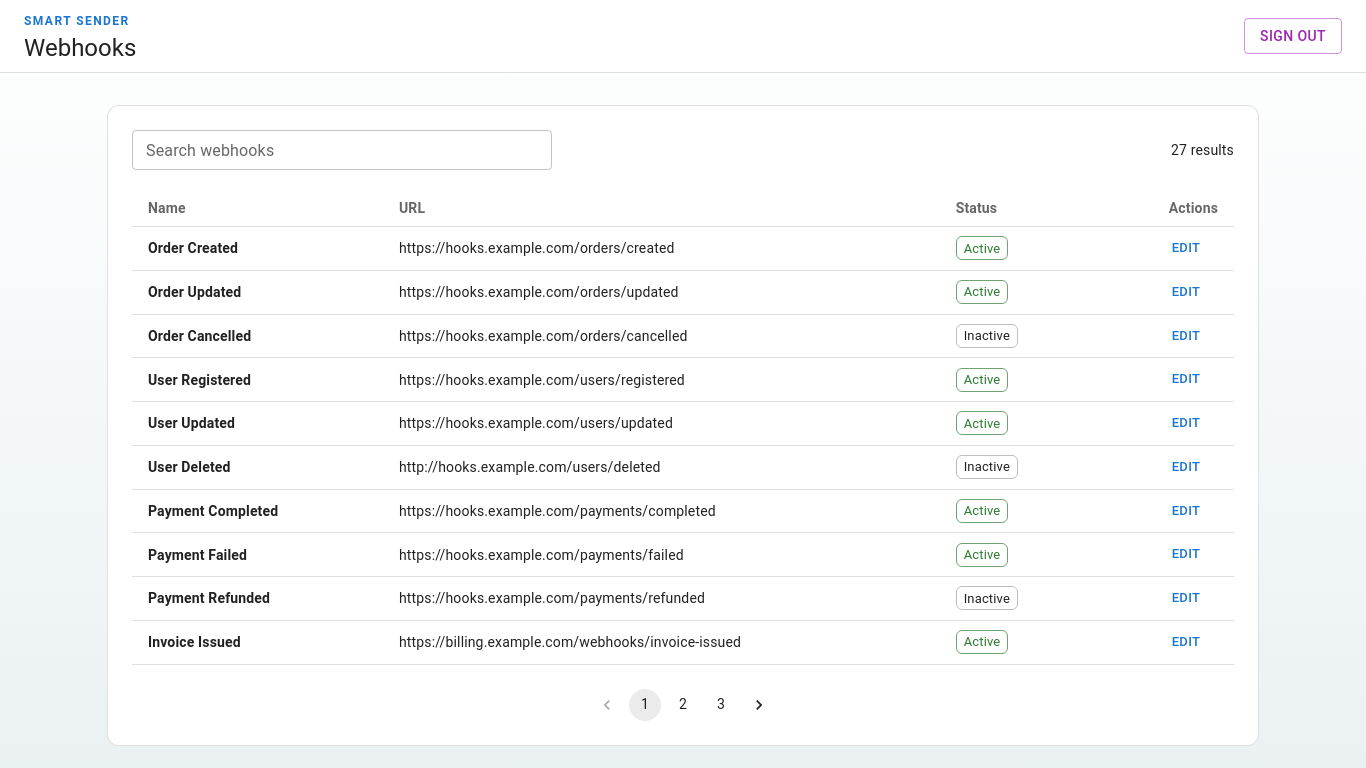
Test case: WebhooksPage edit webhook › opens edit dialog, loads form, saves, and refreshes the list
Check: the text "Order Created" is shown, box [132, 226, 383, 270]
Click the button with aria-label "Edit Order Created" at (1186, 248), box [1154, 233, 1218, 264]
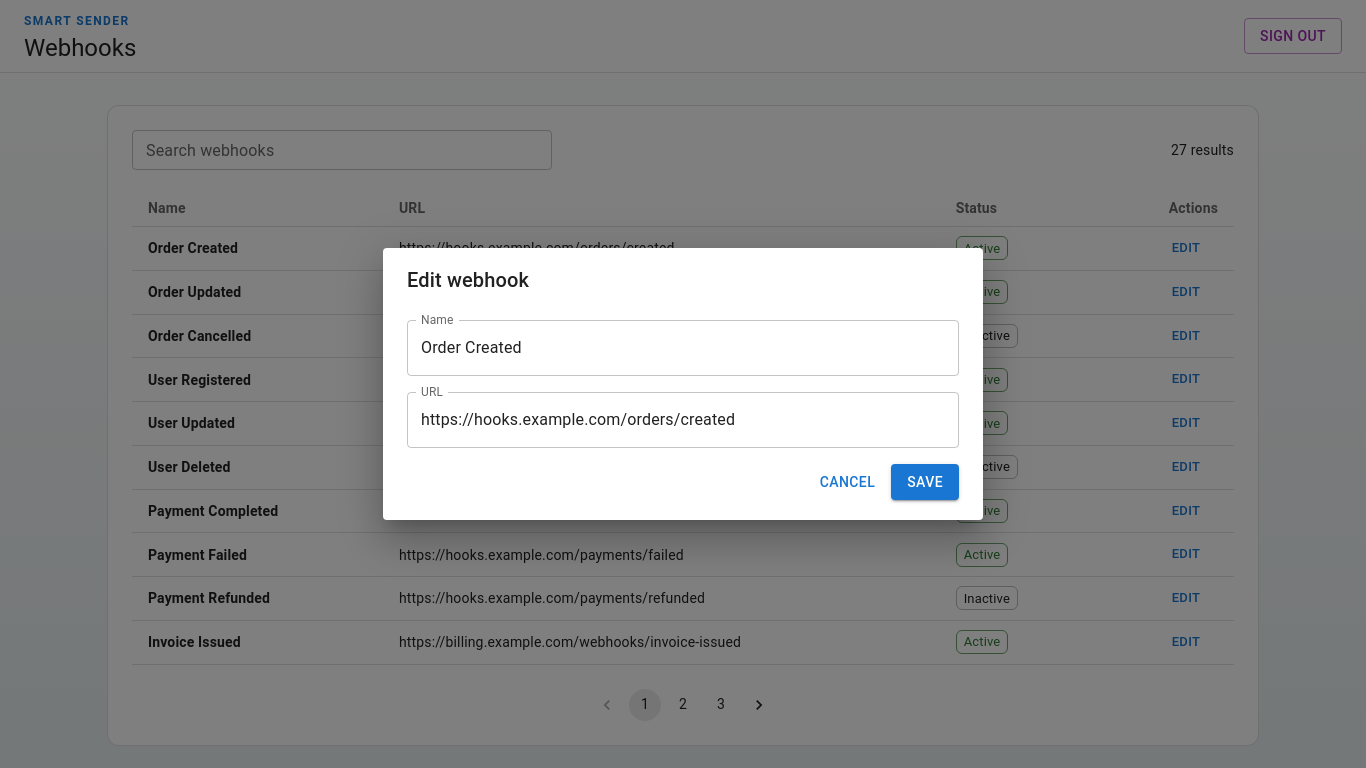
Check: the heading "Edit webhook" is shown, box [407, 268, 529, 292]
Check: the field labelled "Name" holds "Order Created"
Check: the field labelled "URL" holds "https://hooks.example.com/orders/created", box [407, 392, 959, 448]
Replace the text in the field labelled "Name" with "Order Created From List" at (683, 348), box [407, 320, 959, 376]
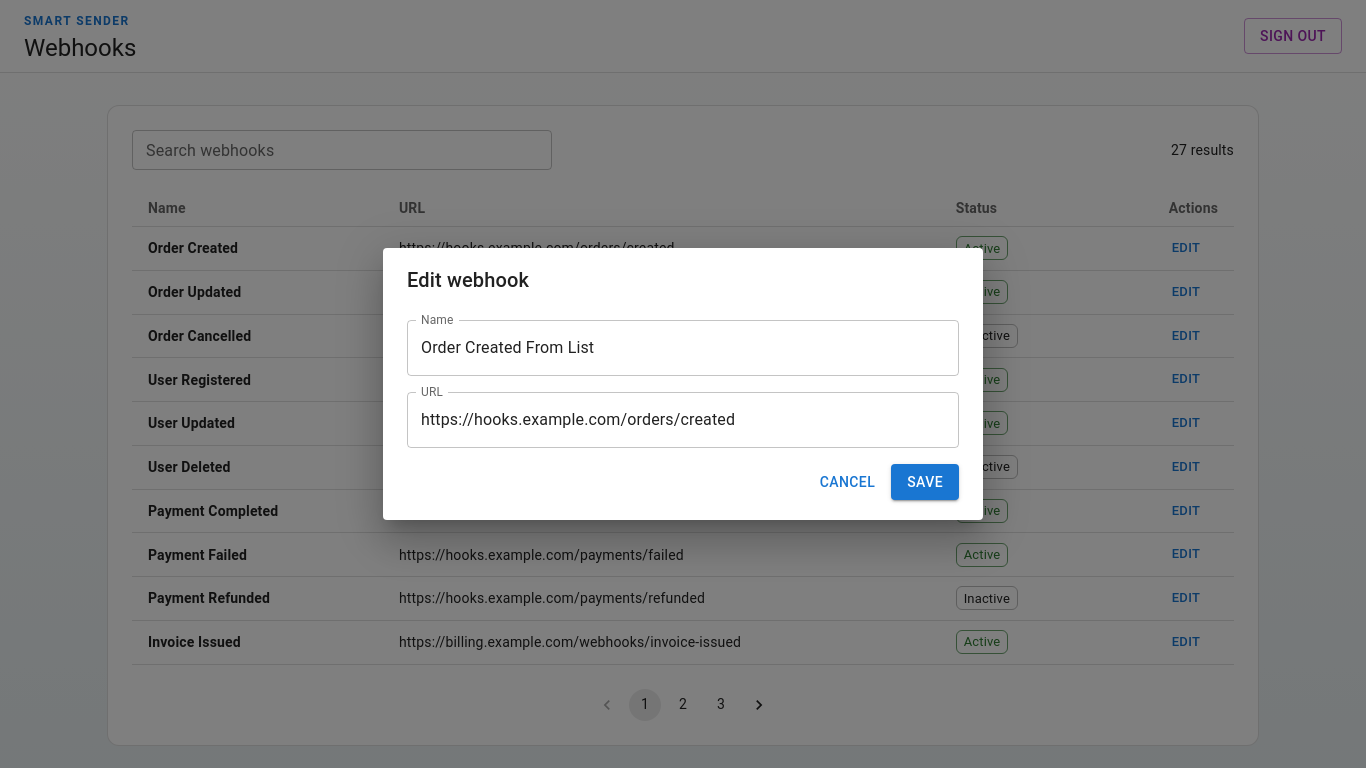
Replace the text in the field labelled "URL" with "https://hooks.example.com/orders/from-list" at (683, 420), box [407, 392, 959, 448]
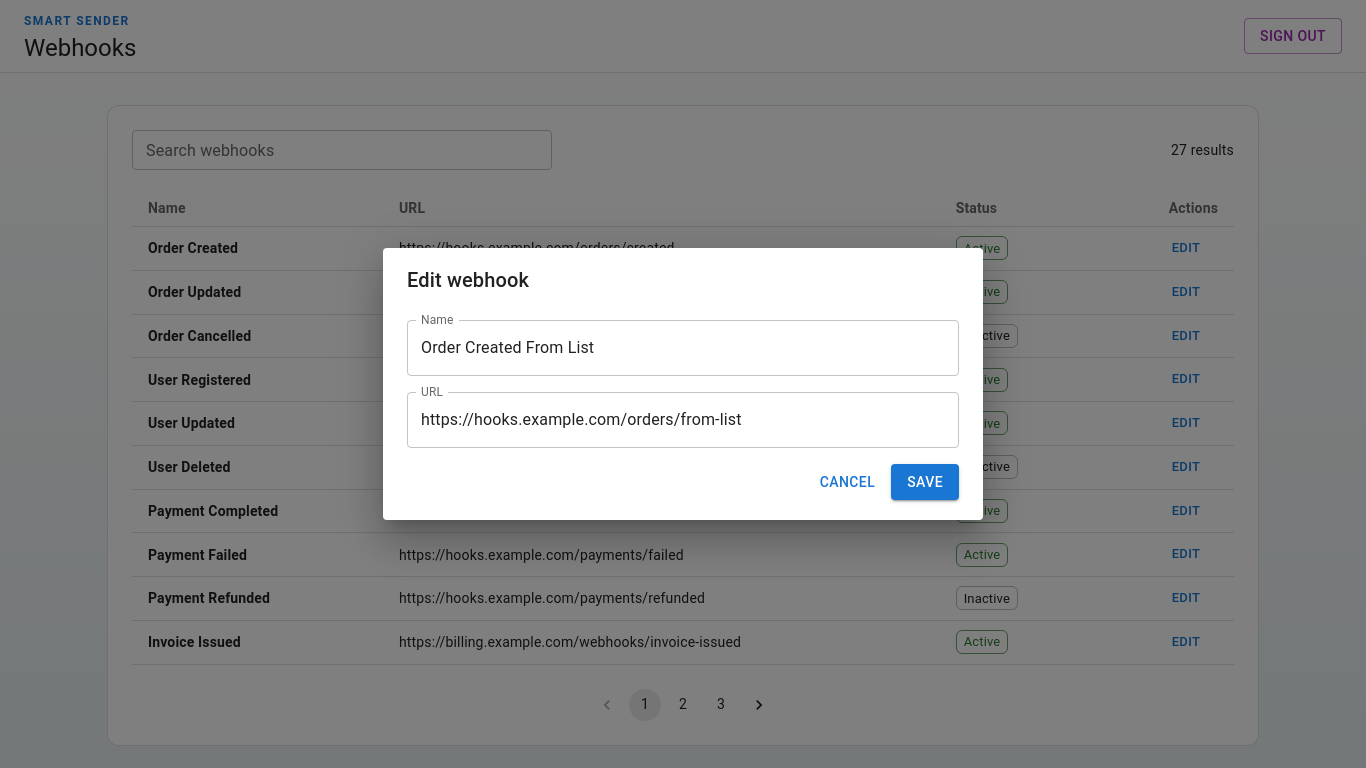
Click the button "Save" at (925, 482), box [891, 464, 959, 500]
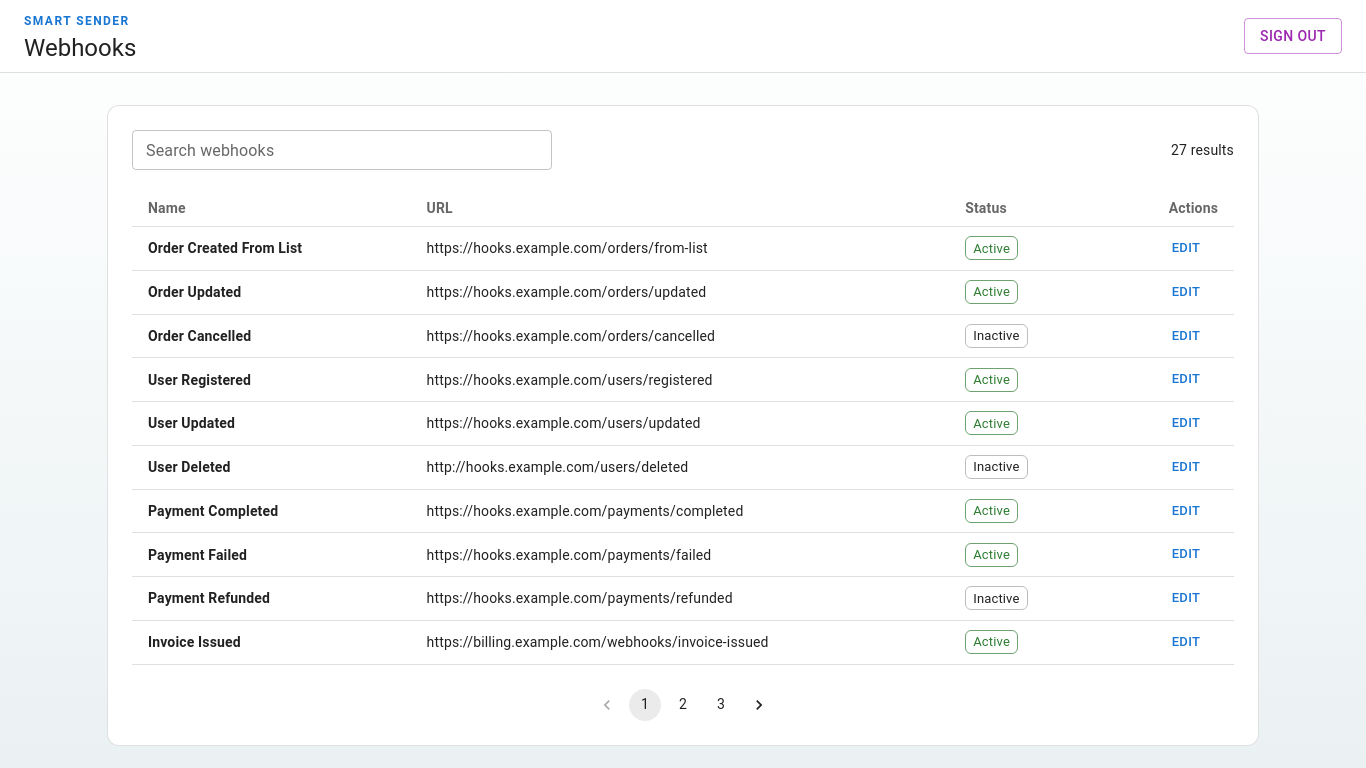
Check: the heading "Edit webhook" is gone
Check: the text "Order Created From List" is shown, box [132, 226, 411, 270]
Check: the text "https://hooks.example.com/orders/from-list" is shown, box [427, 240, 708, 256]
